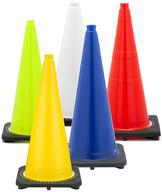yellowC: (11, 51, 83, 186)
